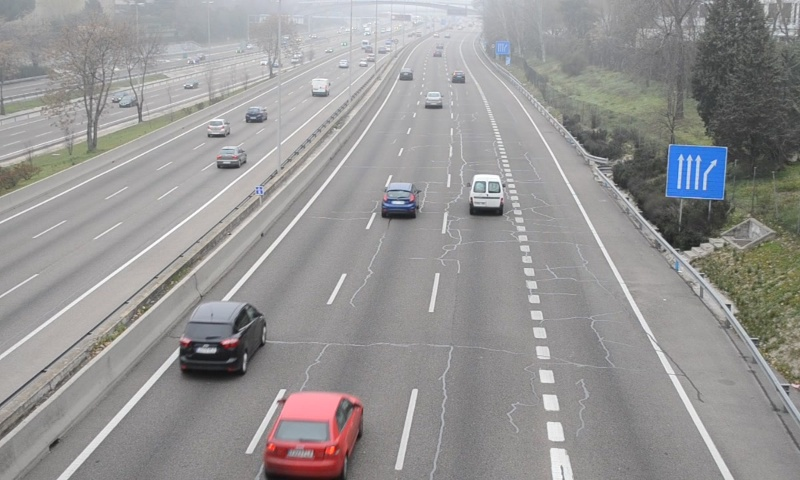car: (262, 392, 363, 480), (177, 302, 266, 374), (382, 182, 419, 218), (424, 91, 442, 109), (398, 66, 414, 81), (450, 70, 466, 84)
van: (469, 174, 503, 216)
